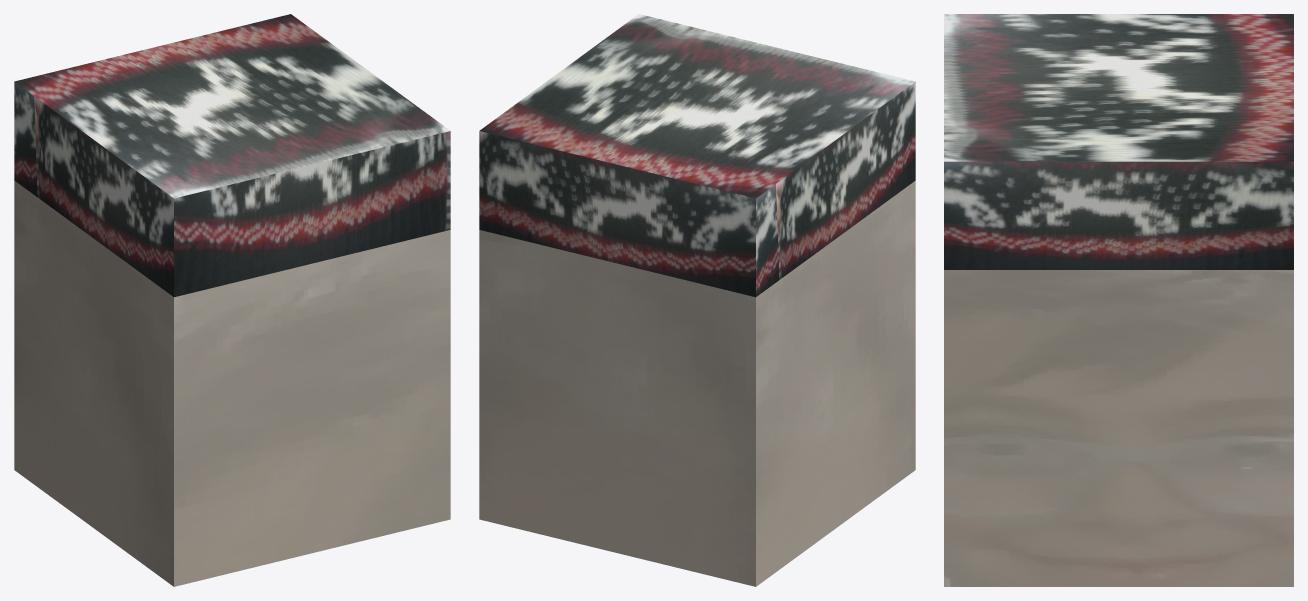
The model's file is tony.glb.
The picture shows the model from 3 angles, left to right: view 1: azimuth 30°, elevation 25°; view 2: azimuth 150°, elevation 25°; view 3: azimuth 270°, elevation 25°; orthographic projection. The views are drawn at different scales.
Parts seen in each view (by area): view 1: Tony; view 2: Tony; view 3: Tony.
Boxes of the visible parts, bbox=[...] form: Tony: bbox=[14, 14, 450, 586]; Tony: bbox=[479, 14, 915, 586]; Tony: bbox=[944, 14, 1293, 586].
Size of the model in its own units: 0.8944 by 1.2 by 0.8944.
Materials: 2 (2 with a texture image).
